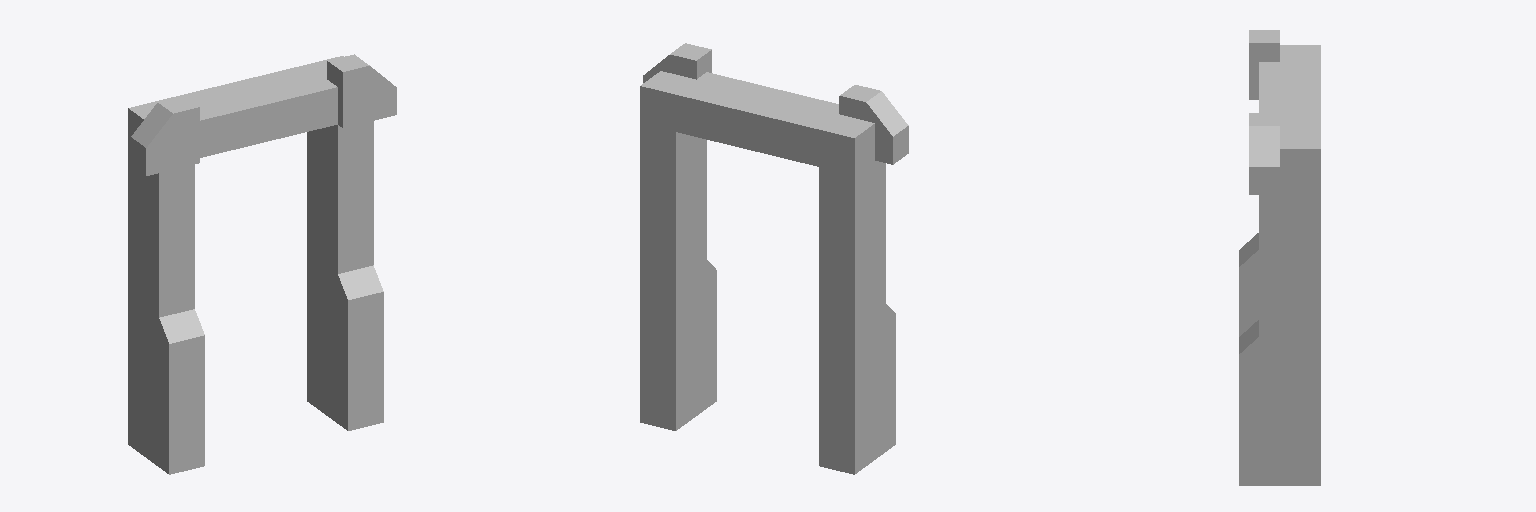
The model's file is cryptSmallDoorway.obj.
3 views of the same model, side by side, from view 1: azimuth 30°, elevation 25°; view 2: azimuth 150°, elevation 25°; view 3: azimuth 270°, elevation 25° (orthographic).
Parts seen in each view (by area): view 1: cryptSmallDoorway; view 2: cryptSmallDoorway; view 3: cryptSmallDoorway.
Part boxes in pixels (x1,y1,x2,y2): cryptSmallDoorway: (128, 54, 396, 474); cryptSmallDoorway: (640, 43, 908, 474); cryptSmallDoorway: (1239, 30, 1320, 485).
Bounding box in the file's own units: 0.7 × 0.95 × 0.2.